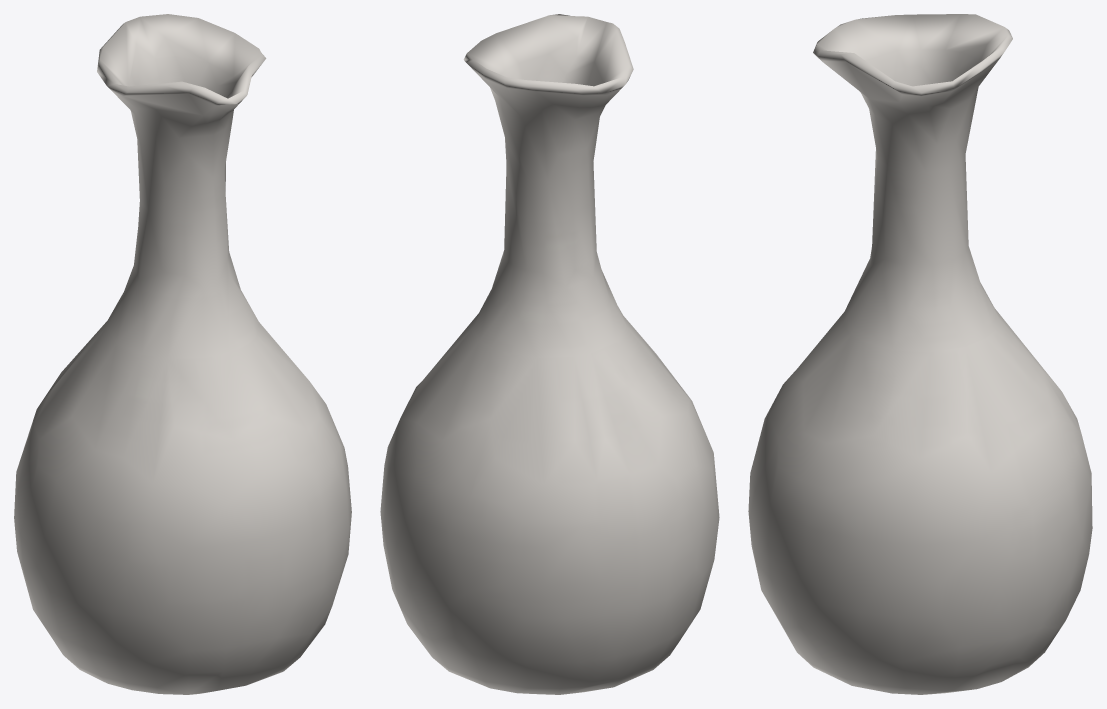
File: ceramic_vase_01.l.ae754128.glb
The picture shows the model from 3 angles, left to right: view 1: azimuth 30°, elevation 25°; view 2: azimuth 150°, elevation 25°; view 3: azimuth 270°, elevation 25°; orthographic projection. The views are drawn at different scales.
Visible parts, largest first — view 1: ceramic_vase_01; view 2: ceramic_vase_01; view 3: ceramic_vase_01.
Boxes of the visible parts, box(x1,y1,x2,y2) form: ceramic_vase_01: box(14, 14, 351, 694); ceramic_vase_01: box(380, 14, 719, 694); ceramic_vase_01: box(748, 14, 1092, 694).
Size of the model in its own units: 0.2024 by 0.3999 by 0.2031.
1 material, 1 textured.
